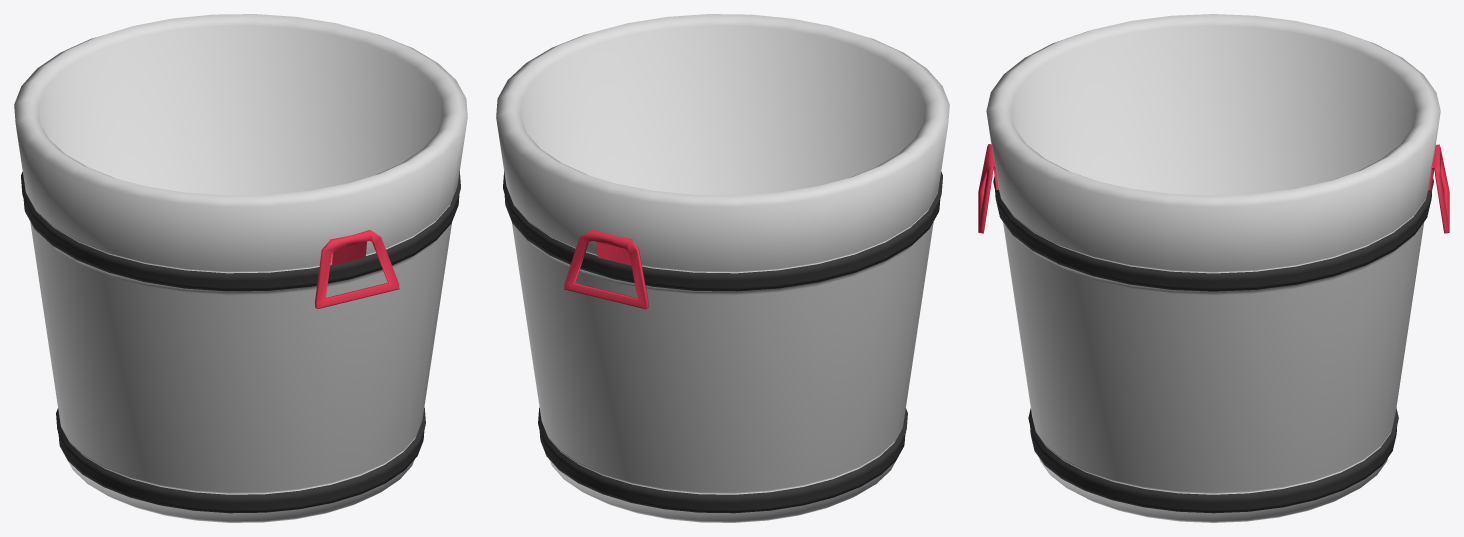
Rendered from bucket.fbx.
The picture shows the model from 3 angles, left to right: view 1: azimuth 30°, elevation 25°; view 2: azimuth 150°, elevation 25°; view 3: azimuth 270°, elevation 25°; orthographic projection.
Parts seen in each view (by area): view 1: Cylinder, Cube; view 2: Cylinder, Cube; view 3: Cylinder, Cube.
Boxes of the visible parts, x1,y1,x2,y2 form: Cylinder: [14, 14, 467, 522]; Cube: [315, 230, 399, 308]; Cylinder: [496, 14, 949, 522]; Cube: [564, 229, 648, 309]; Cylinder: [986, 14, 1440, 522]; Cube: [978, 144, 1449, 233].
Bounding box in the file's own units: 200 × 168 × 208.
